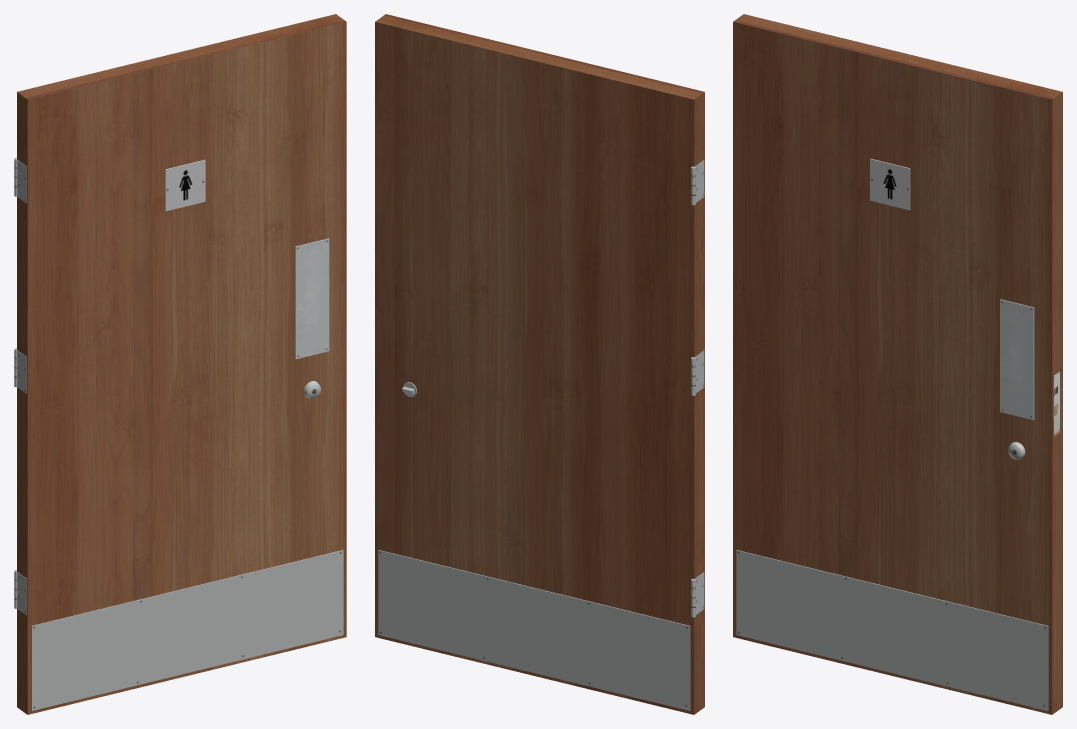
Rendered from SM_Door_Woman_01.glb.
The picture shows the model from 3 angles, left to right: view 1: azimuth 30°, elevation 25°; view 2: azimuth 150°, elevation 25°; view 3: azimuth 330°, elevation 25°; orthographic projection.
Parts seen in each view (by area): view 1: SM_Door_Woman_01; view 2: SM_Door_Woman_01; view 3: SM_Door_Woman_01.
Part boxes in pixels (x1=…): SM_Door_Woman_01: x1=14, y1=14, x2=346, y2=714; SM_Door_Woman_01: x1=375, y1=14, x2=704, y2=714; SM_Door_Woman_01: x1=733, y1=14, x2=1062, y2=714.
Size of the model in its own units: 1.31 by 2.39 by 0.1107.
Materials: 1 (1 with a texture image).
